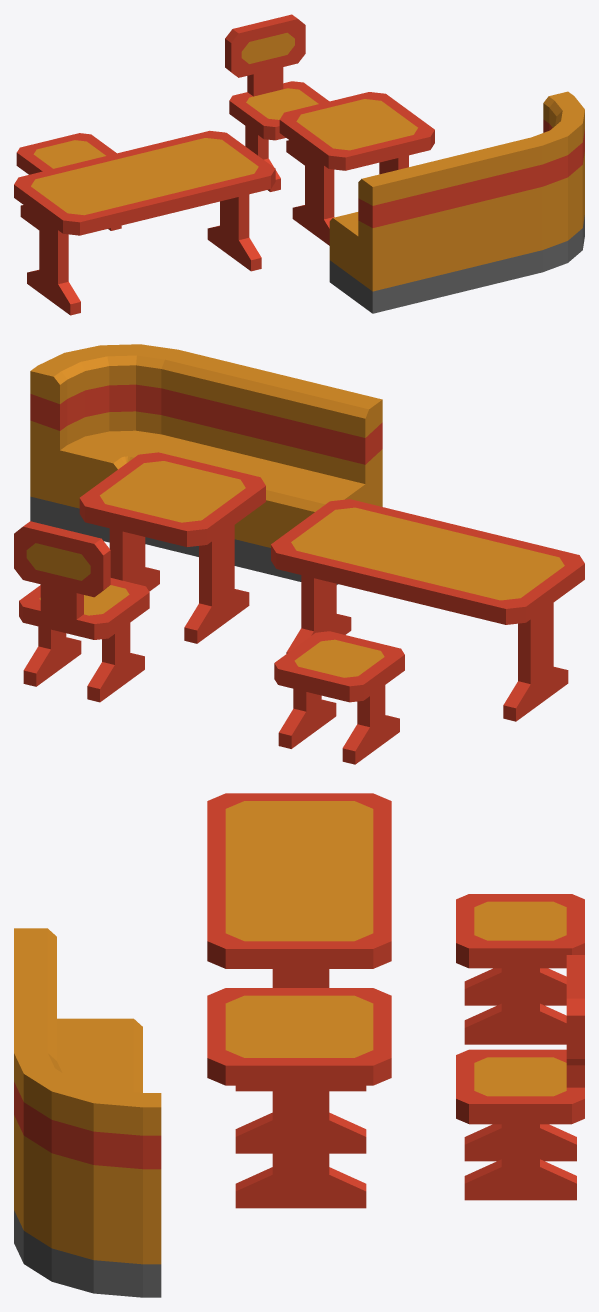
Rendered from Seating03.fbx.
3 views of the same model, one above another, from view 1: azimuth 30°, elevation 25°; view 2: azimuth 150°, elevation 25°; view 3: azimuth 270°, elevation 25° (orthographic). The views are drawn at different scales.
Visible parts, largest first — view 1: Sofa, Table_Long, Table, Sofa_Corner, Chair, Stool; view 2: Table_Long, Sofa, Sofa_Corner, Table, Chair, Stool; view 3: Table_Long, Sofa_Corner, Table, Chair, Stool, Sofa.
Boxes of the visible parts, box(x1,y1,x2,y2) form: Sofa: box(329, 140, 531, 313); Table_Long: box(14, 130, 275, 315); Table: box(279, 92, 434, 245); Sofa_Corner: box(521, 91, 584, 274); Chair: box(225, 14, 329, 191); Stool: box(16, 133, 121, 230); Table_Long: box(271, 499, 584, 721); Sofa: box(145, 353, 382, 584); Sofa_Corner: box(30, 344, 190, 542); Table: box(79, 452, 265, 643); Chair: box(14, 521, 149, 702); Stool: box(274, 631, 404, 764); Table_Long: box(207, 793, 391, 1091); Sofa_Corner: box(14, 1045, 161, 1297); Table: box(207, 988, 391, 1208); Chair: box(456, 955, 584, 1200); Stool: box(456, 894, 584, 1044); Sofa: box(14, 928, 142, 1092).
Bounding box in the file's own units: 4.55 × 1.2 × 3.1.
Materials: 1 (1 with a texture image).
